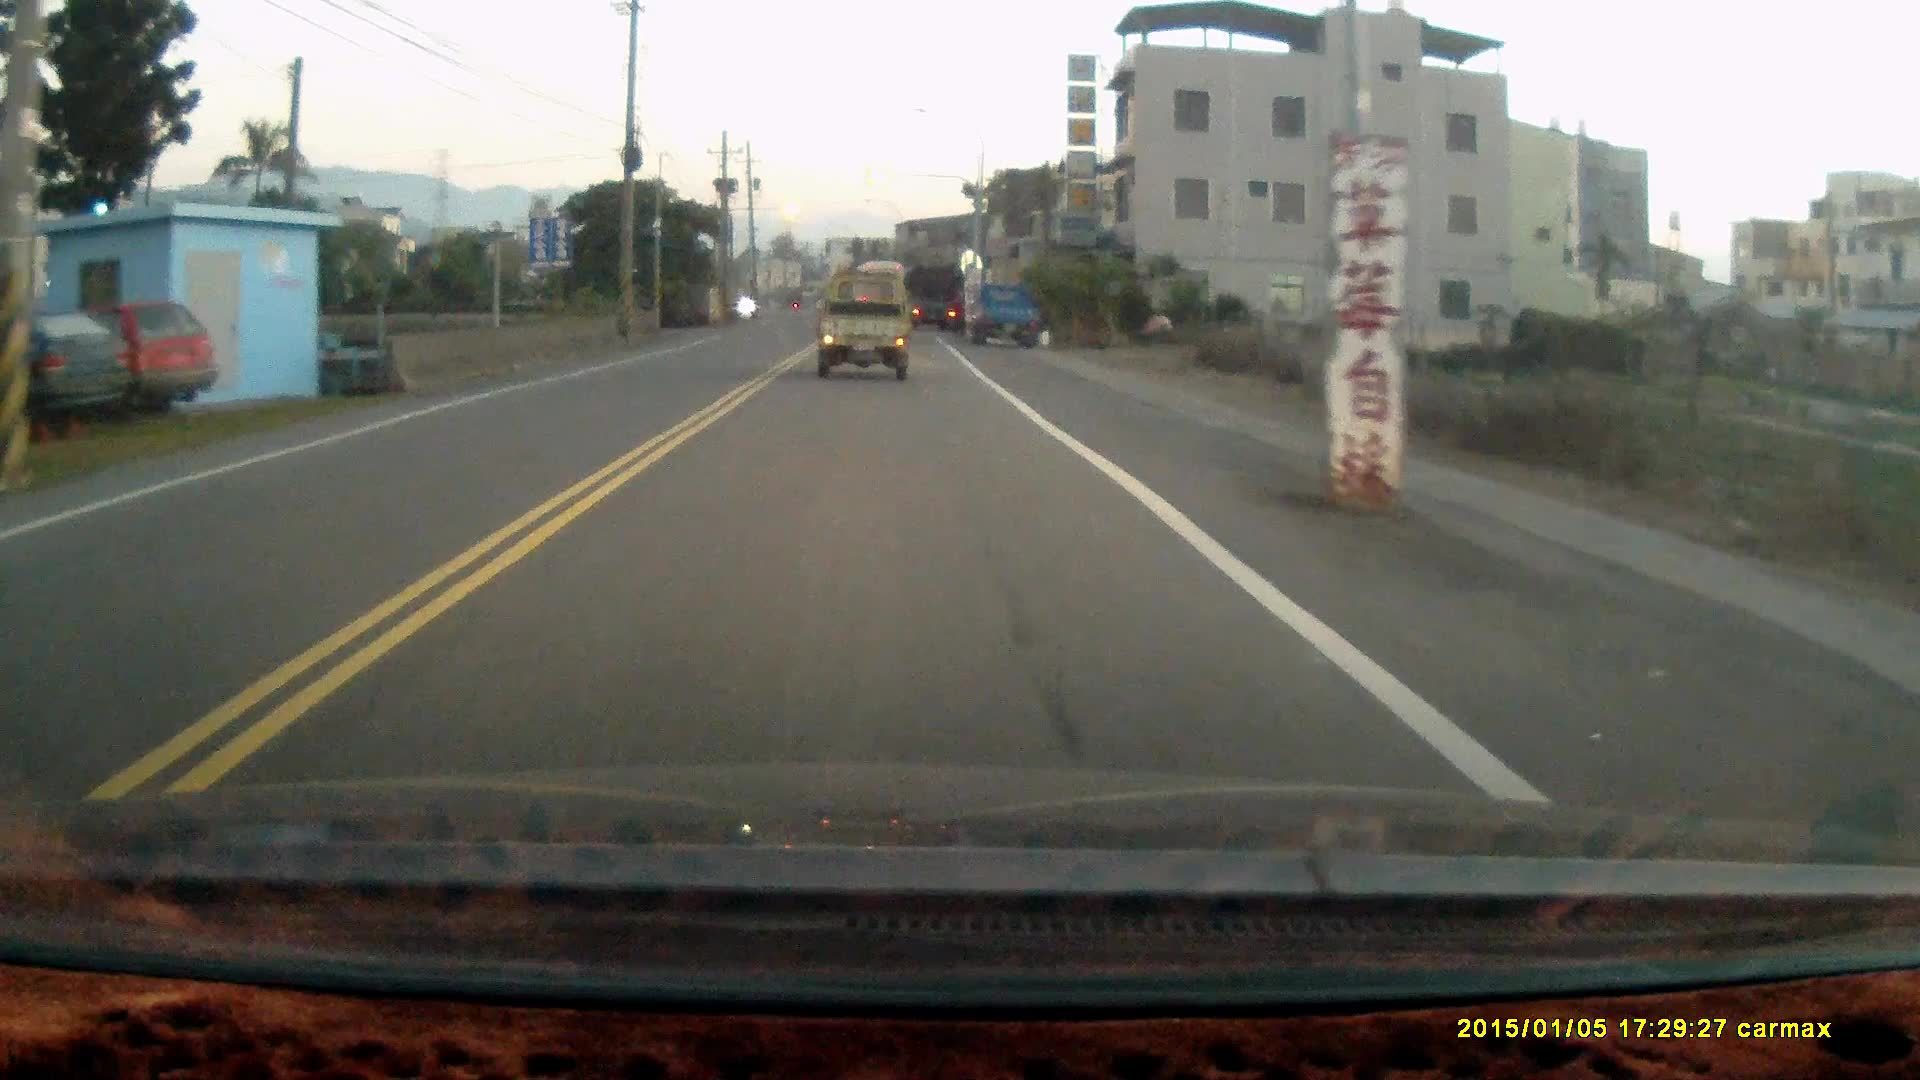vehicle: (16, 301, 220, 415), (3, 303, 140, 436), (815, 276, 916, 378), (967, 289, 1048, 353), (903, 265, 967, 331)
